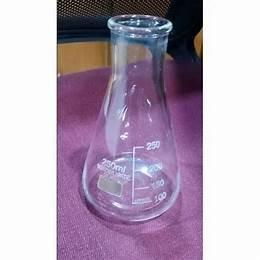Titrarion: (81, 5, 183, 221)
